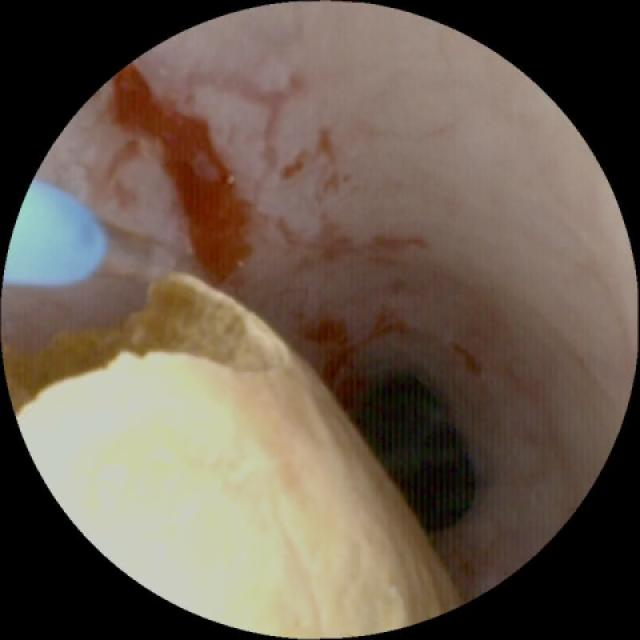fiber: (8, 183, 104, 282)
stone: (8, 276, 456, 630)
tissue: (54, 14, 626, 593)
